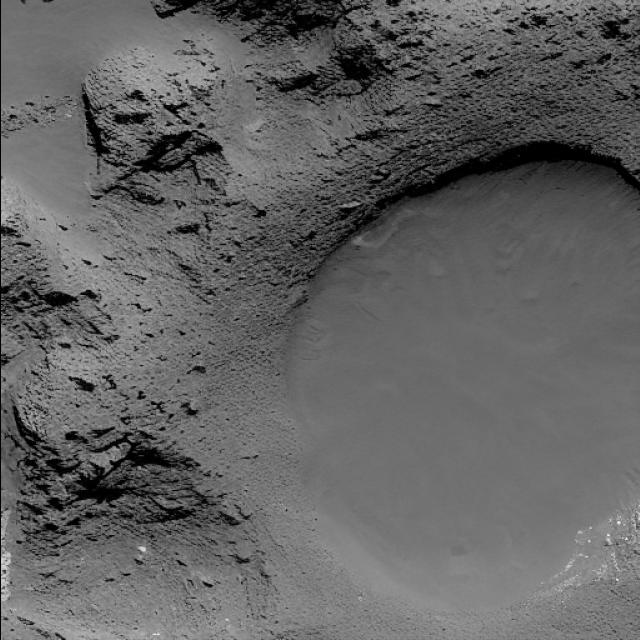crater: (283, 143, 640, 619)
